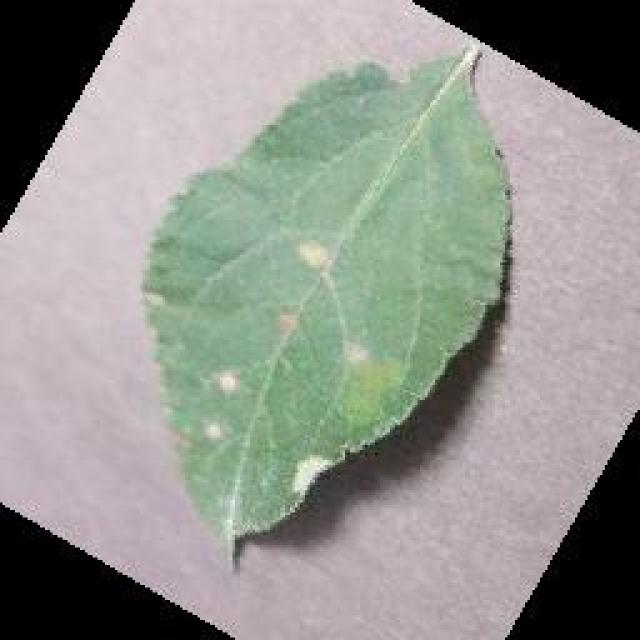apple rust disease: (137, 40, 515, 565)
